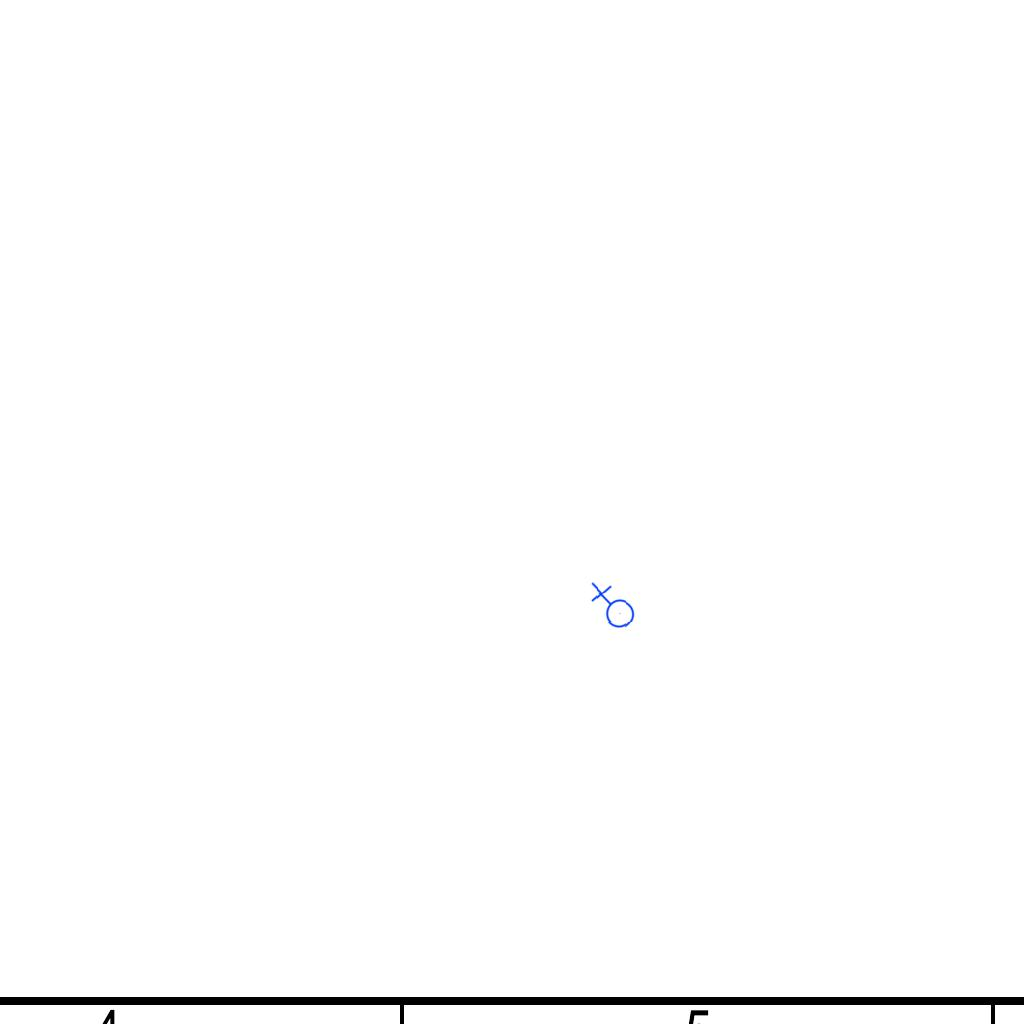Elektroanschluss_allgemein_230V_Geraeteanschlussdose_230V: (587, 582, 636, 633)
